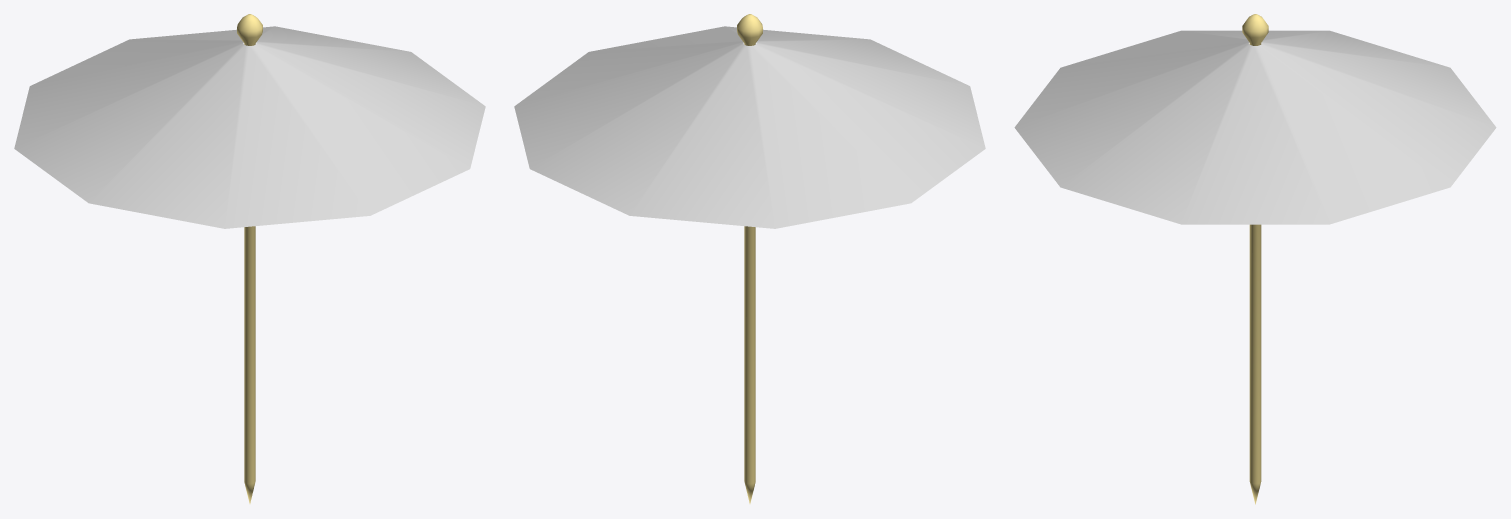
Rendered from umbrella2.0.fbx.
3 views of the same model, side by side, from view 1: azimuth 30°, elevation 25°; view 2: azimuth 150°, elevation 25°; view 3: azimuth 270°, elevation 25° (orthographic).
Parts seen in each view (by area): view 1: Circle; view 2: Circle; view 3: Circle.
Boxes of the visible parts, bbox=[...] form: Circle: bbox=[14, 14, 485, 503]; Circle: bbox=[514, 14, 985, 503]; Circle: bbox=[1014, 14, 1496, 504].
Size of the model in its own units: 39.27 by 46.31 by 41.29.
